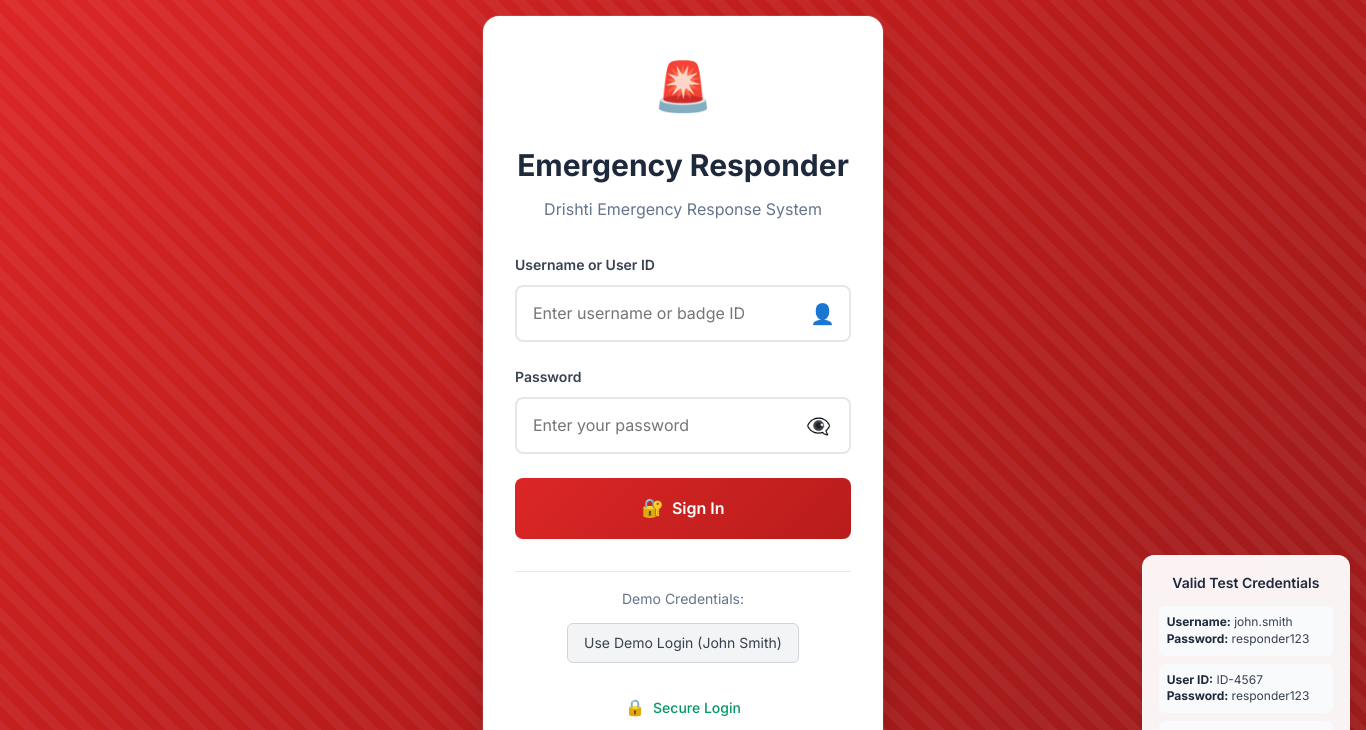
Emergency Responder PWA › Login Component › validates required fields
Click the button "🔐 Sign In".
click(683, 509)  # box [515, 478, 851, 539]
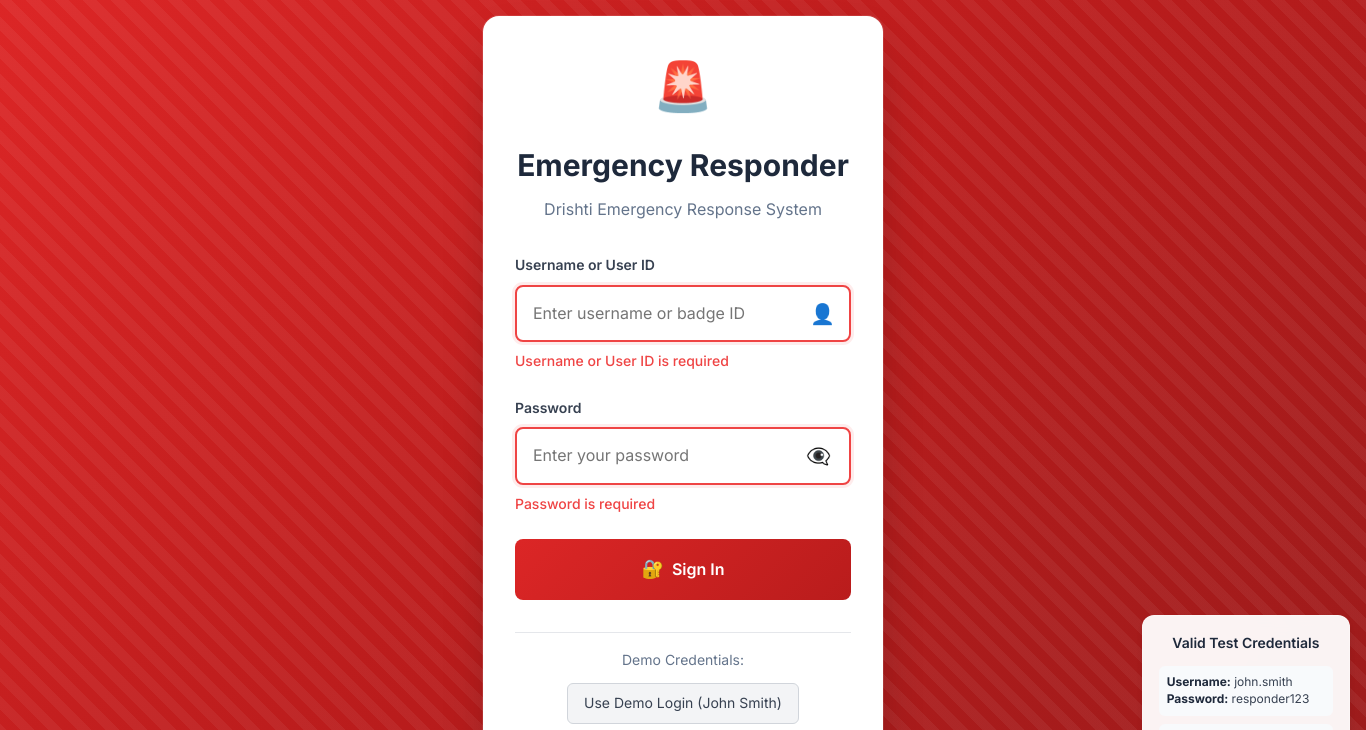
Check: the text "Username or User ID is required" is shown, box [515, 352, 729, 369]
Check: the text "Password is required" is shown, box [515, 495, 655, 512]
